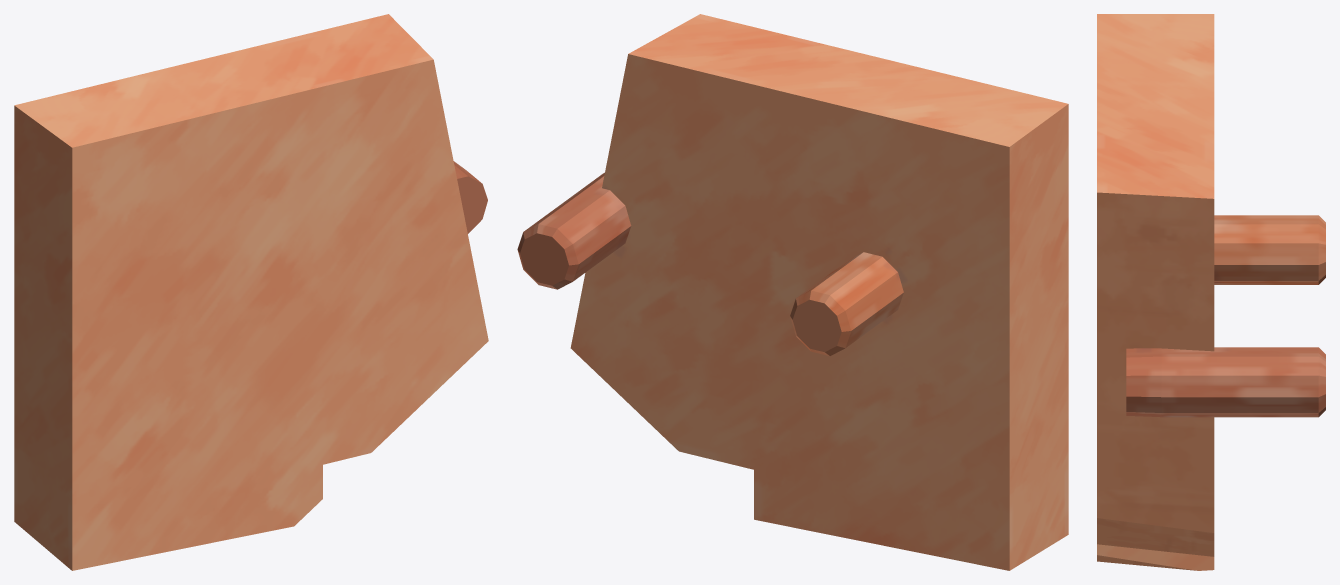
The model's file is wall_upper_window_s10.fbx.
The picture shows the model from 3 angles, left to right: view 1: azimuth 30°, elevation 25°; view 2: azimuth 150°, elevation 25°; view 3: azimuth 270°, elevation 25°; orthographic projection.
Parts seen in each view (by area): view 1: wall_upper_window_s10; view 2: wall_upper_window_s10; view 3: wall_upper_window_s10.
Boxes of the visible parts, x1,y1,x2,y2 form: wall_upper_window_s10: (14, 14, 488, 570); wall_upper_window_s10: (517, 14, 1068, 570); wall_upper_window_s10: (1097, 14, 1325, 570).
Bounding box in the file's own units: 4.3 × 4.12 × 1.95.
